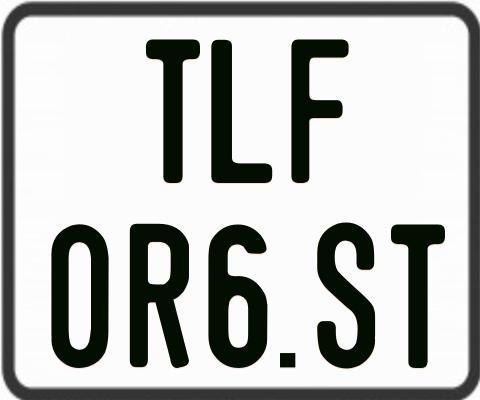0: (51, 221, 114, 371)
6: (207, 223, 267, 368)
F: (289, 39, 350, 187)
L: (208, 40, 271, 187)
R: (130, 223, 193, 368)
S: (316, 219, 375, 365)
T: (389, 223, 447, 371), (144, 37, 202, 184)
